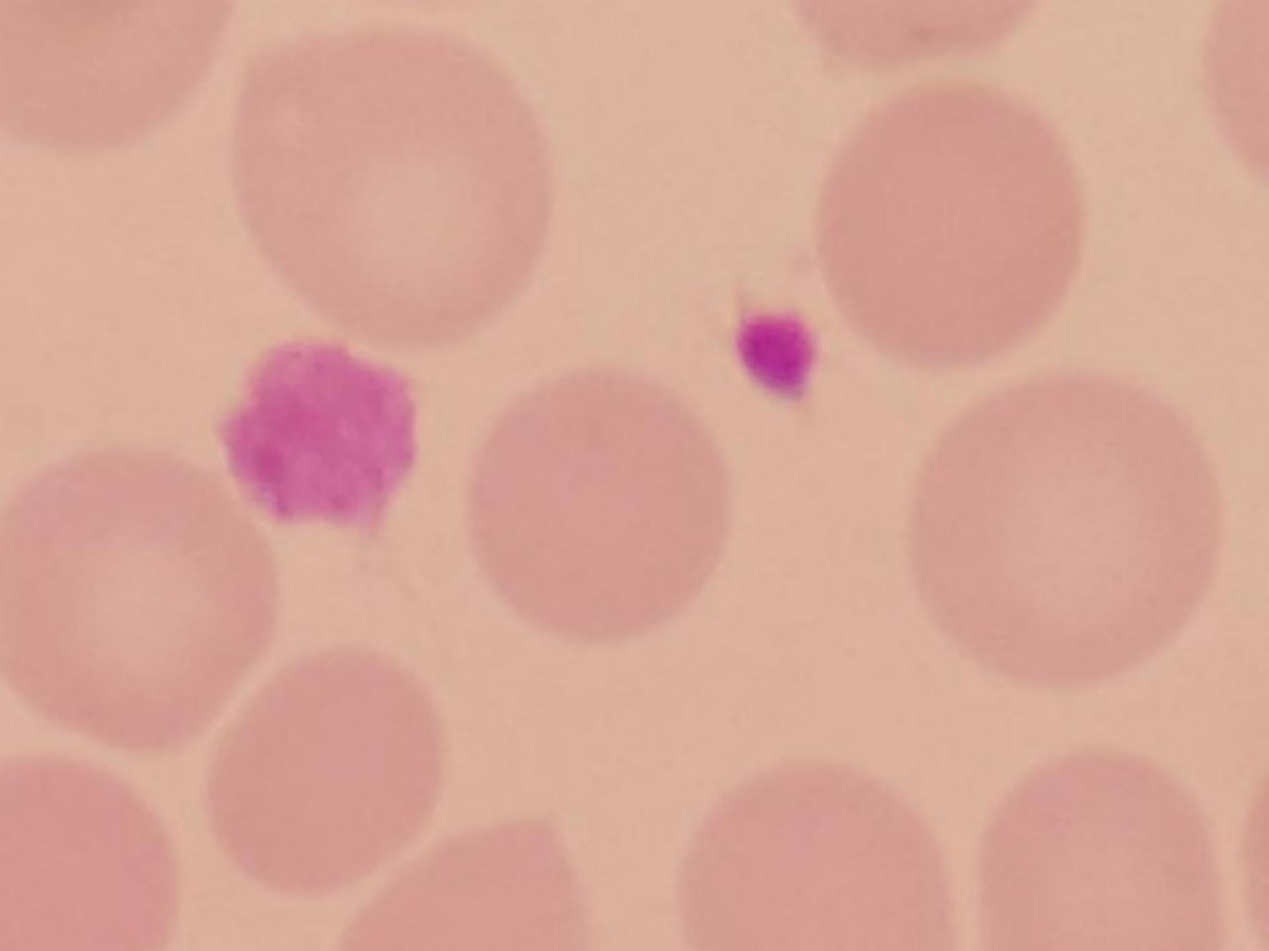Uninfected: (230, 22, 549, 340), (912, 372, 1217, 690), (0, 446, 284, 755), (818, 86, 1077, 368), (469, 370, 728, 640), (203, 648, 450, 898), (674, 760, 962, 951), (988, 747, 1217, 951), (0, 0, 222, 154), (0, 757, 174, 951), (340, 815, 588, 951)
